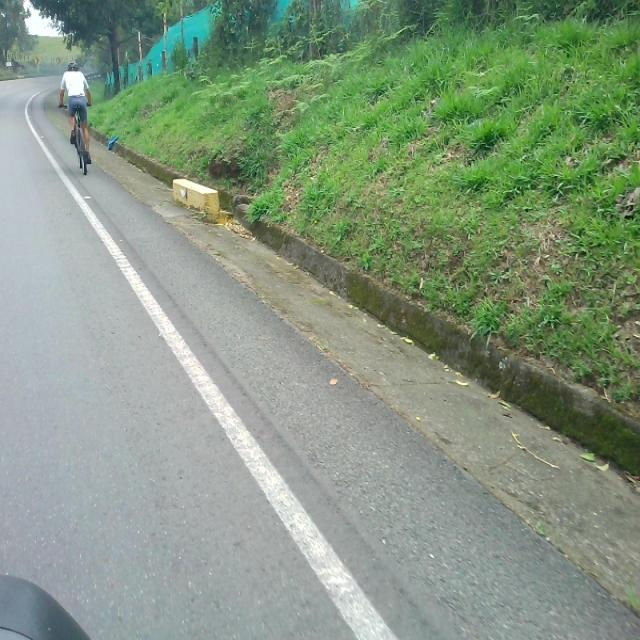DITCH: (21, 77, 638, 637), (56, 63, 638, 638)
